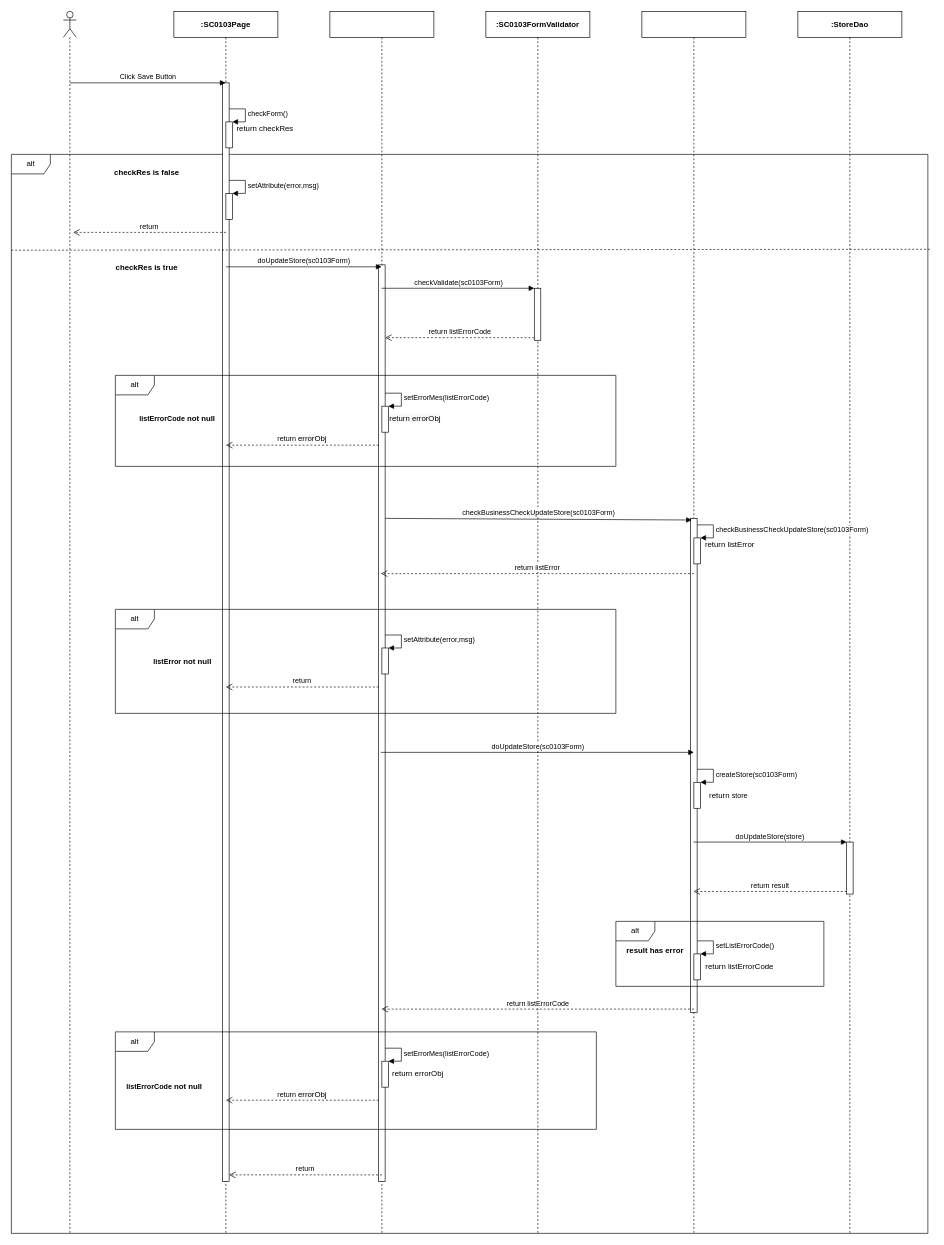
Some shapes in this 944 by 1245 pixel diagram are drawn without their labels. Here are the shapes that lost their labels. From the top down, the box of each, then its label:
(329, 11, 434, 1233): :SC0103Controller
(641, 11, 746, 1233): : SC0103 Service
